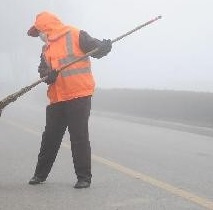person: (26, 11, 112, 190)
